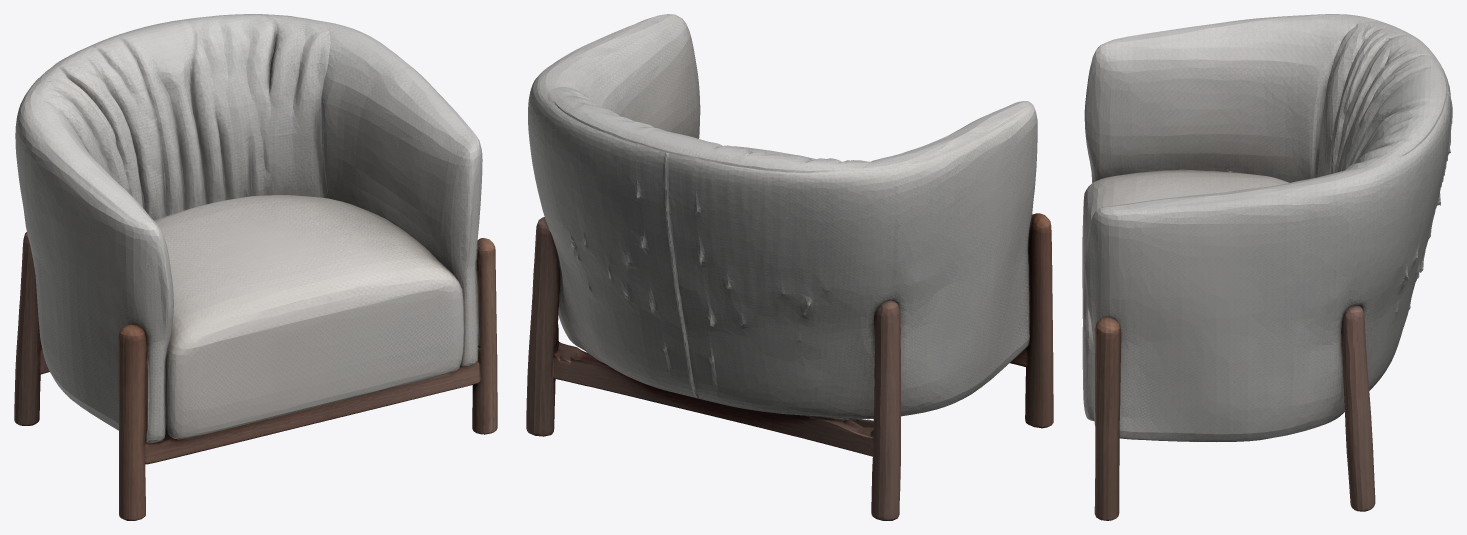
Rendered from SILLON BALI NATURAL.glb.
3 views of the same model, side by side, from view 1: azimuth 30°, elevation 25°; view 2: azimuth 150°, elevation 25°; view 3: azimuth 270°, elevation 25° (orthographic). The views are drawn at different scales.
Visible parts, largest first — view 1: world; view 2: world; view 3: world.
Boxes of the visible parts, box(x1,y1,x2,y2) form: world: box(14, 14, 497, 520); world: box(526, 14, 1053, 520); world: box(1082, 14, 1452, 520).
Size of the model in its own units: 0.96 by 0.81 by 0.79.
Materials: 1 (1 with a texture image).
